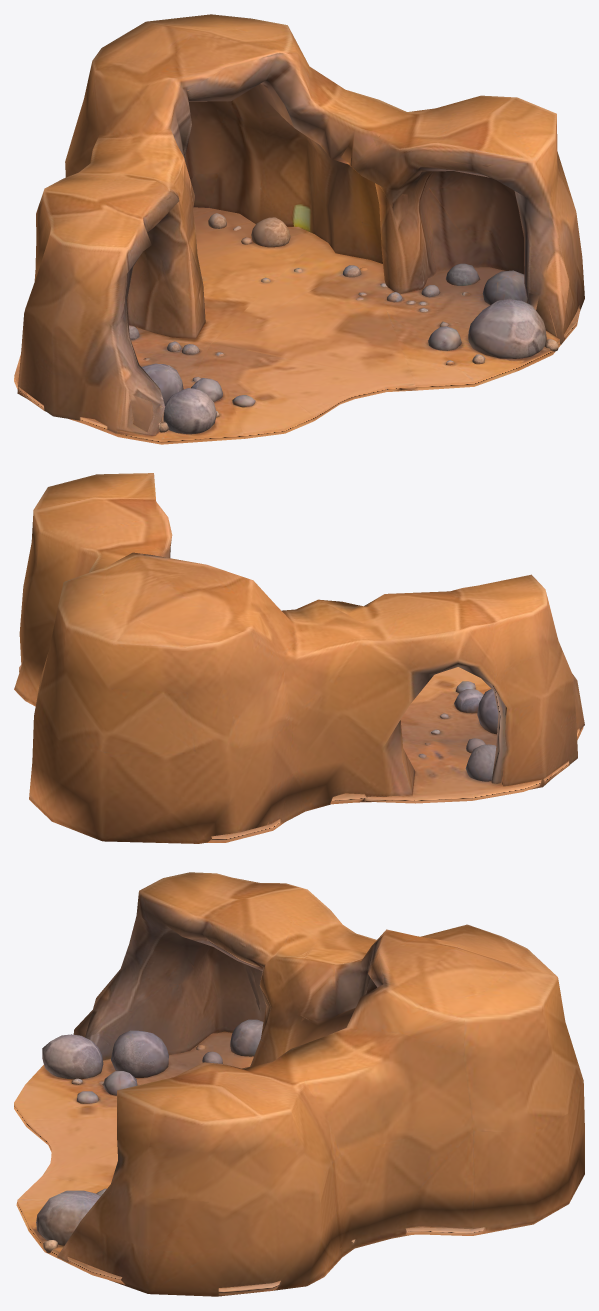
Rendered from r4c3_cave_passage.glb.
3 renders of one model, top to bottom at view 1: azimuth 30°, elevation 25°; view 2: azimuth 150°, elevation 25°; view 3: azimuth 270°, elevation 25°, orthographic. The views are drawn at different scales.
Bounding box in the file's own units: 1 × 0.4131 × 0.9102.
1 material, 1 textured.
